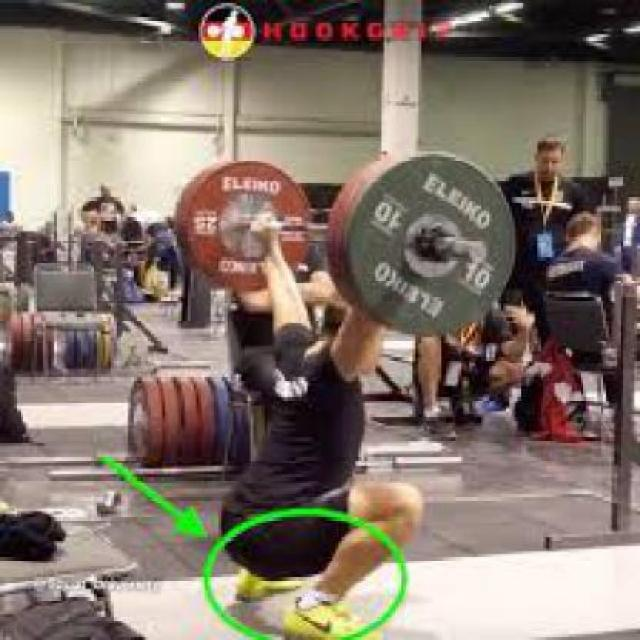Barbell: (461, 237, 492, 266)
